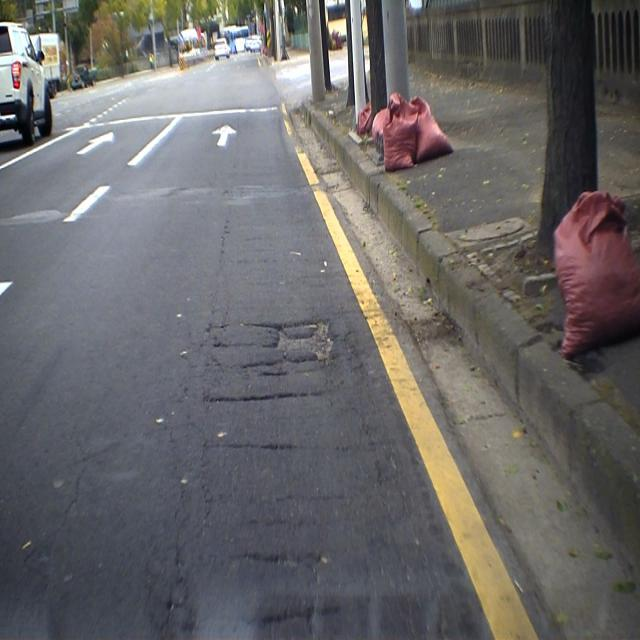Pothole: (201, 314, 340, 375)
